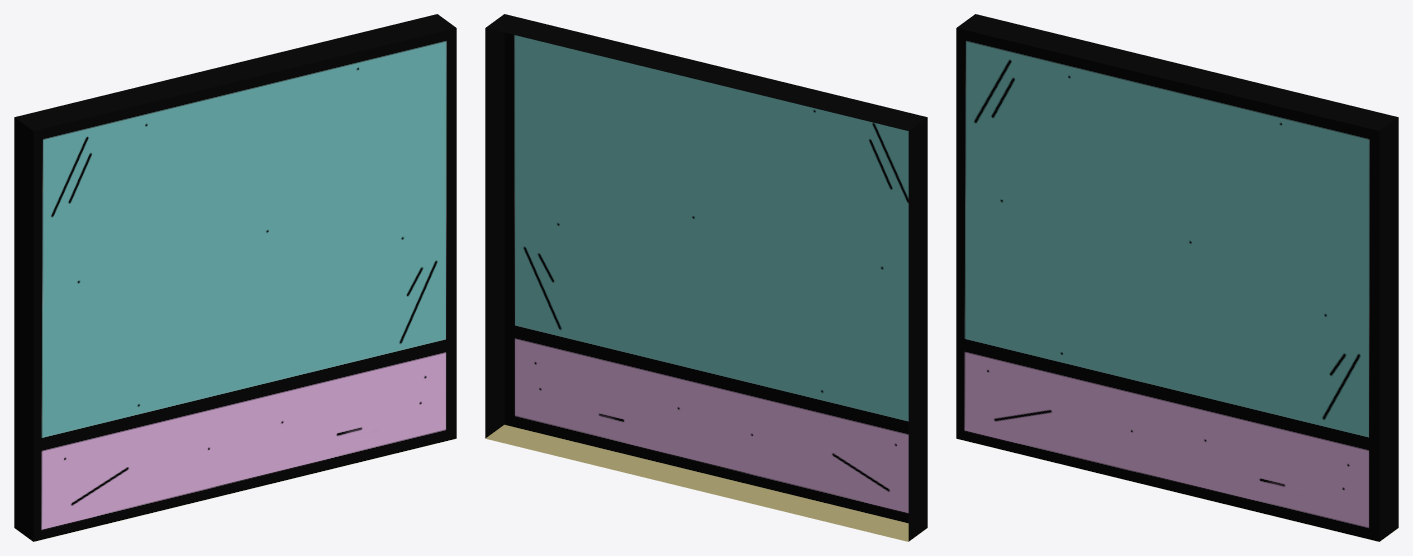
Rendered from Bot_Left_Shopfront.fbx.
The picture shows the model from 3 angles, left to right: view 1: azimuth 30°, elevation 25°; view 2: azimuth 150°, elevation 25°; view 3: azimuth 330°, elevation 25°; orthographic projection.
Parts seen in each view (by area): view 1: Box170; view 2: Box170; view 3: Box170.
Part boxes in pixels (left/top/right/bottom): Box170: left=14, top=14, right=456, bottom=541; Box170: left=485, top=14, right=927, bottom=541; Box170: left=956, top=14, right=1398, bottom=541.
Bounding box in the file's own units: 2.26 × 2.09 × 0.1757.
